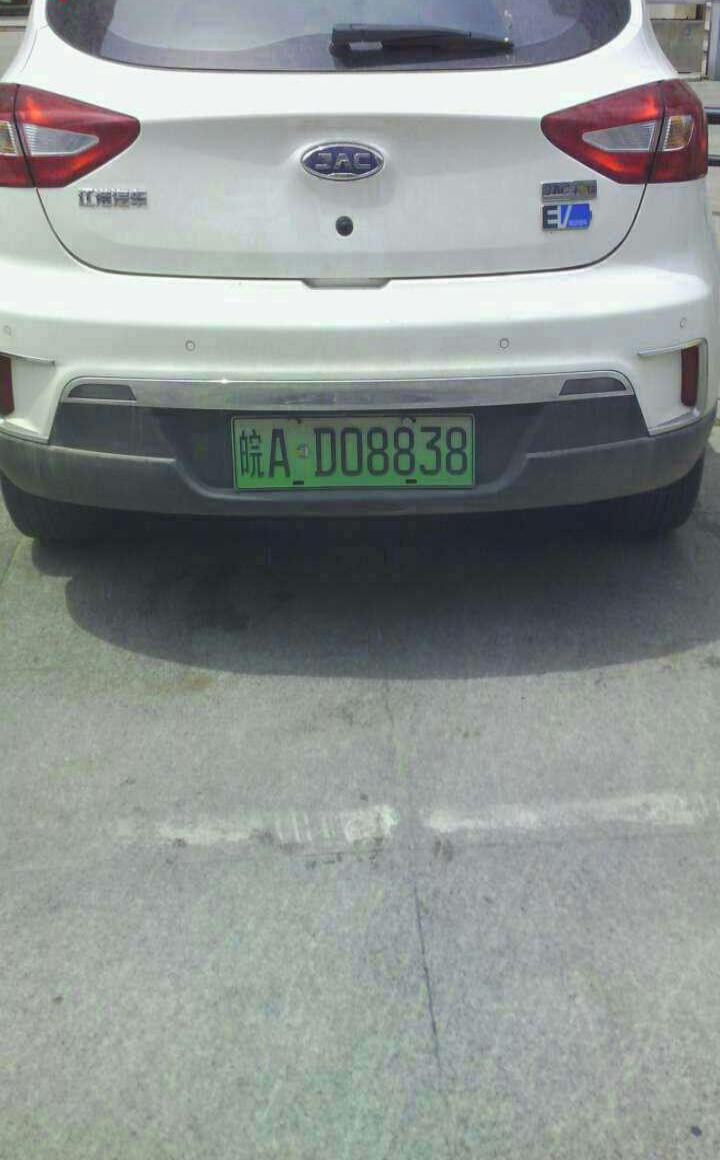car_id: (215, 415, 475, 492)
